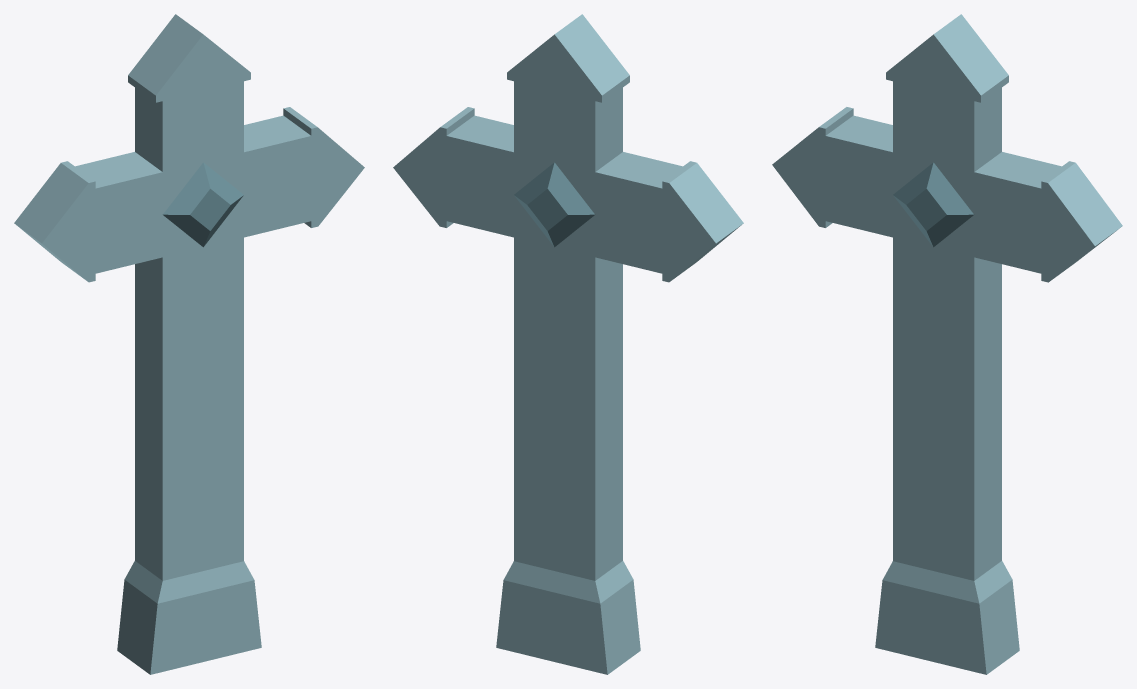
Rendered from cross.fbx.
The picture shows the model from 3 angles, left to right: view 1: azimuth 30°, elevation 25°; view 2: azimuth 150°, elevation 25°; view 3: azimuth 330°, elevation 25°; orthographic projection.
Parts seen in each view (by area): view 1: cross; view 2: cross; view 3: cross.
Part boxes in pixels (box(x1,y1,x2,y2)): cross: box(14, 14, 364, 674); cross: box(393, 14, 743, 674); cross: box(772, 14, 1122, 674).
Size of the model in its own units: 5.36 by 9.9 by 1.2.
